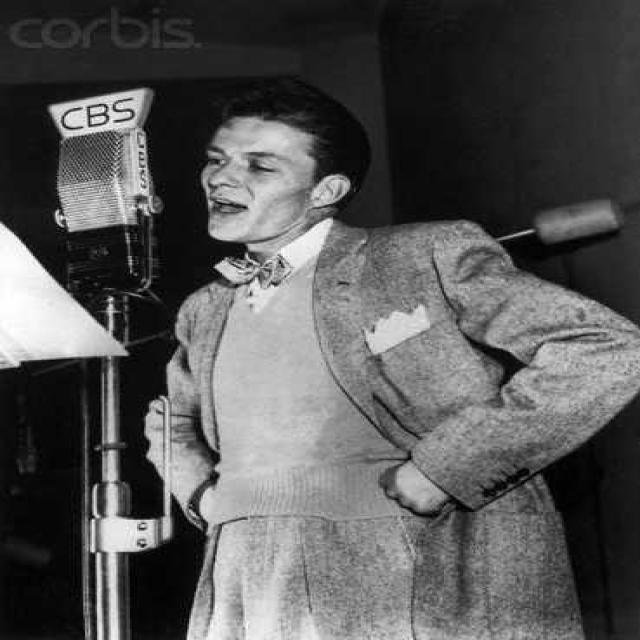microphone: (48, 87, 164, 306), (492, 196, 628, 251)
